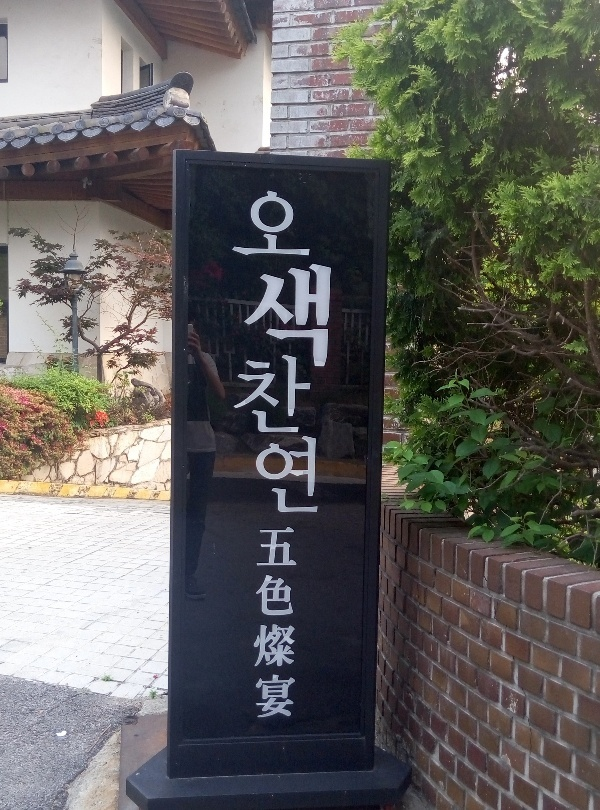text: (225, 190, 240, 519), (241, 190, 256, 519), (257, 190, 272, 519), (273, 190, 288, 519), (289, 190, 304, 519), (305, 190, 320, 519), (321, 190, 336, 519), (257, 526, 272, 722), (273, 526, 288, 722), (289, 526, 297, 722), (253, 526, 256, 722)
